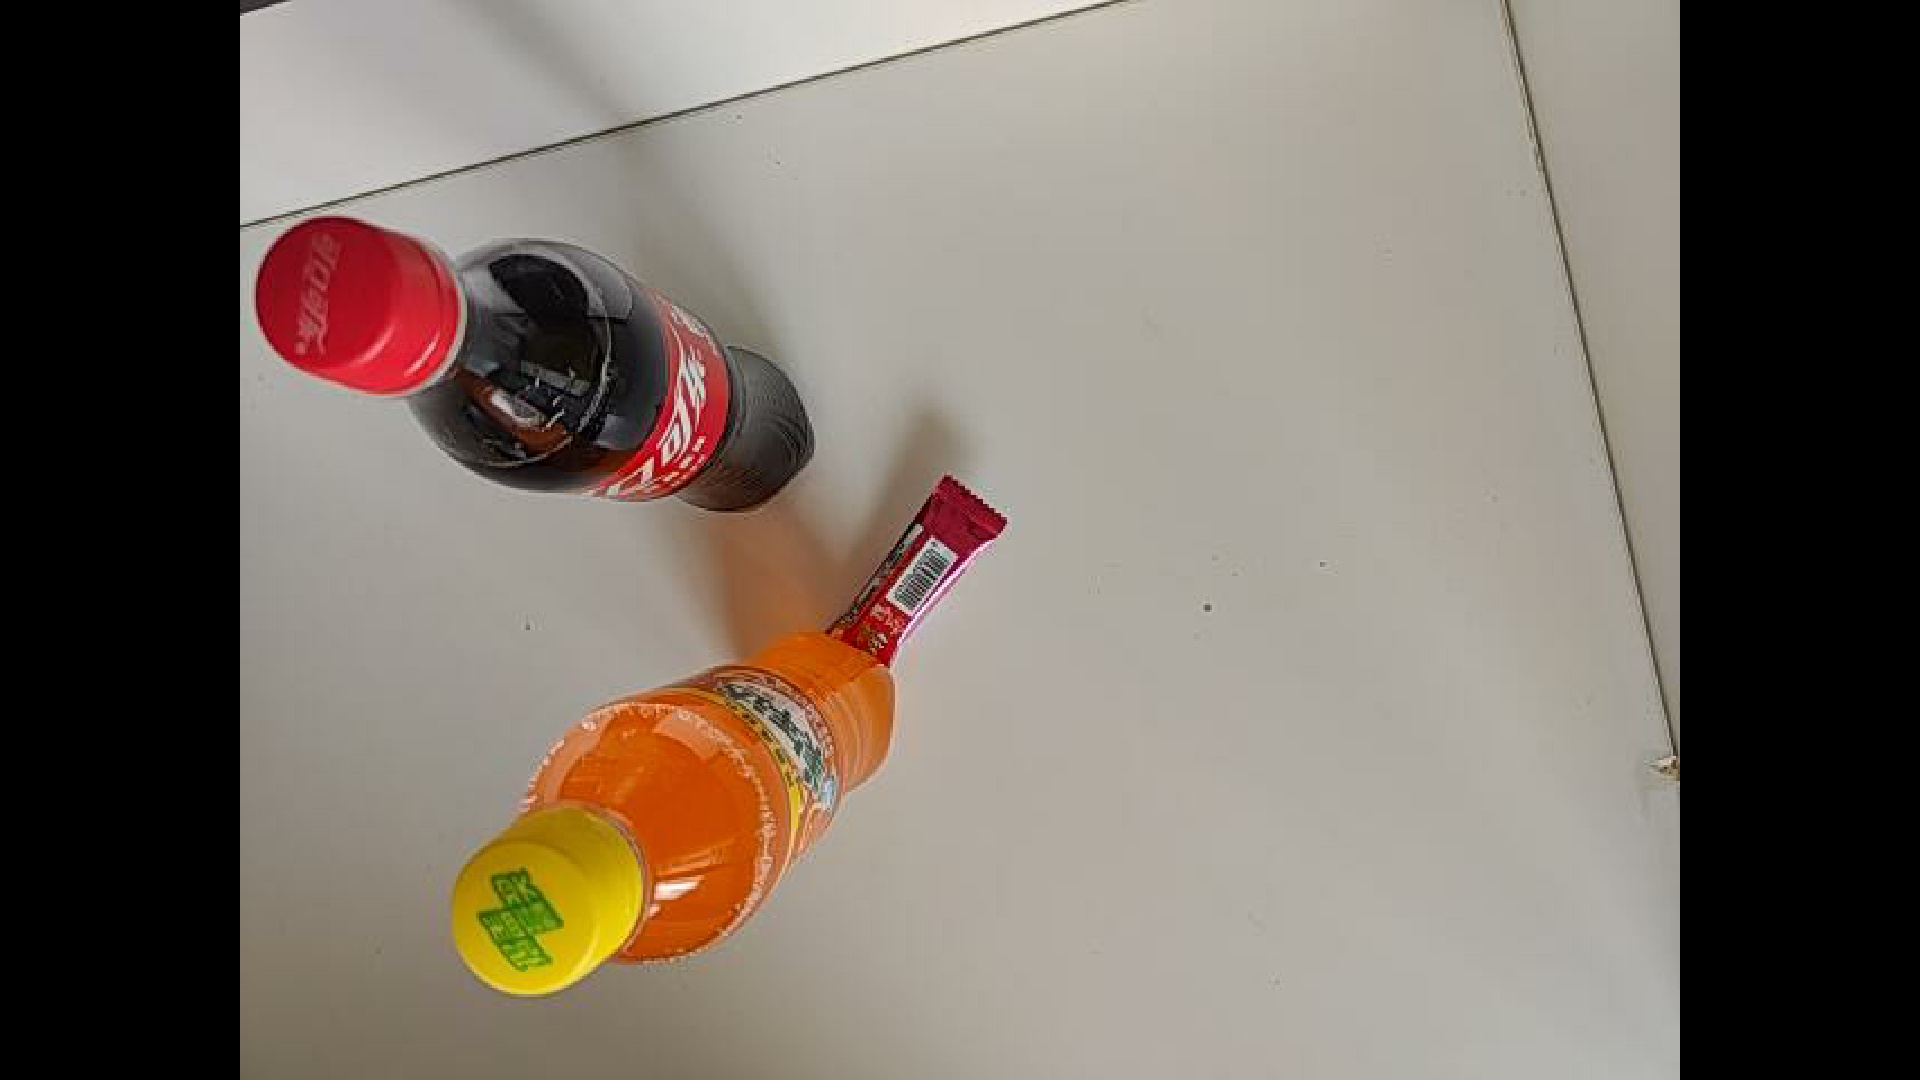cola: (253, 212, 816, 517)
fenta: (448, 630, 895, 996)
sugar: (729, 468, 1014, 663)
